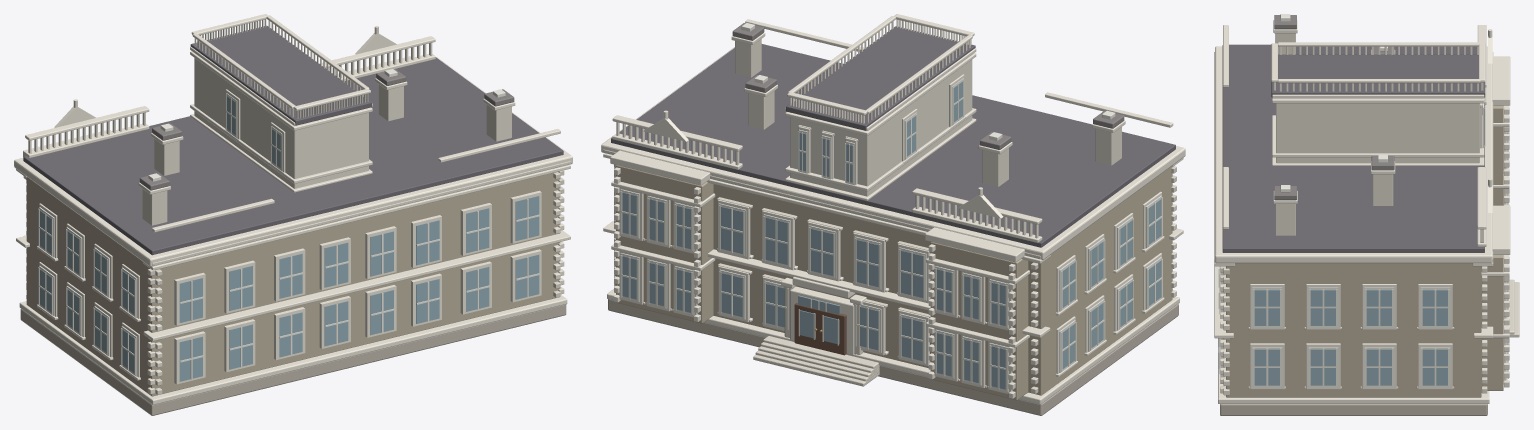
Rendered from kharis-manor.glb.
The picture shows the model from 3 angles, left to right: view 1: azimuth 30°, elevation 25°; view 2: azimuth 150°, elevation 25°; view 3: azimuth 270°, elevation 25°; orthographic projection. The views are drawn at different scales.
Parts seen in each view (by area): view 1: Kharis Manor · Sunlit limestone trim, Kharis Manor · Weathered slate roof, Kharis Manor · Warm pale ashlar limestone, Kharis Manor · Blue grey reflected window glass, Kharis Manor · Cut limestone blocks, Kharis Manor · Dark painted sash frames, Kharis Manor · Recessed joints and plinth, Kharis Manor · Slate roof edge; view 2: Kharis Manor · Sunlit limestone trim, Kharis Manor · Weathered slate roof, Kharis Manor · Warm pale ashlar limestone, Kharis Manor · Blue grey reflected window glass, Kharis Manor · Cut limestone blocks, Kharis Manor · Dark painted sash frames, Kharis Manor · Recessed joints and plinth, Kharis Manor · Deep walnut entrance doors, Kharis Manor · Slate roof edge; view 3: Kharis Manor · Weathered slate roof, Kharis Manor · Sunlit limestone trim, Kharis Manor · Warm pale ashlar limestone, Kharis Manor · Cut limestone blocks, Kharis Manor · Blue grey reflected window glass, Kharis Manor · Dark painted sash frames, Kharis Manor · Recessed joints and plinth, Kharis Manor · Slate roof edge.
Part boxes in pixels (<box>): Kharis Manor · Sunlit limestone trim: <box>14,14,572,404</box>; Kharis Manor · Weathered slate roof: <box>23,25,563,255</box>; Kharis Manor · Warm pale ashlar limestone: <box>26,172,560,396</box>; Kharis Manor · Blue grey reflected window glass: <box>39,96,539,381</box>; Kharis Manor · Cut limestone blocks: <box>26,58,570,394</box>; Kharis Manor · Dark painted sash frames: <box>38,69,539,379</box>; Kharis Manor · Recessed joints and plinth: <box>20,304,566,415</box>; Kharis Manor · Slate roof edge: <box>139,69,514,190</box>; Kharis Manor · Sunlit limestone trim: <box>601,14,1185,404</box>; Kharis Manor · Weathered slate roof: <box>611,26,1175,247</box>; Kharis Manor · Warm pale ashlar limestone: <box>614,165,1172,400</box>; Kharis Manor · Blue grey reflected window glass: <box>622,81,1161,389</box>; Kharis Manor · Cut limestone blocks: <box>603,39,1176,393</box>; Kharis Manor · Dark painted sash frames: <box>620,23,1162,392</box>; Kharis Manor · Recessed joints and plinth: <box>608,299,1178,415</box>; Kharis Manor · Deep walnut entrance doors: <box>794,303,846,355</box>; Kharis Manor · Slate roof edge: <box>732,23,1124,149</box>; Kharis Manor · Weathered slate roof: <box>1222,44,1485,252</box>; Kharis Manor · Sunlit limestone trim: <box>1214,20,1510,403</box>; Kharis Manor · Warm pale ashlar limestone: <box>1226,105,1503,397</box>; Kharis Manor · Cut limestone blocks: <box>1214,33,1519,393</box>; Kharis Manor · Blue grey reflected window glass: <box>1219,103,1507,385</box>; Kharis Manor · Dark painted sash frames: <box>1218,14,1508,387</box>; Kharis Manor · Recessed joints and plinth: <box>1220,404,1487,415</box>; Kharis Manor · Slate roof edge: <box>1274,15,1394,200</box>.
Bounding box in the file's own units: 20.4 × 11.42 × 12.52.
